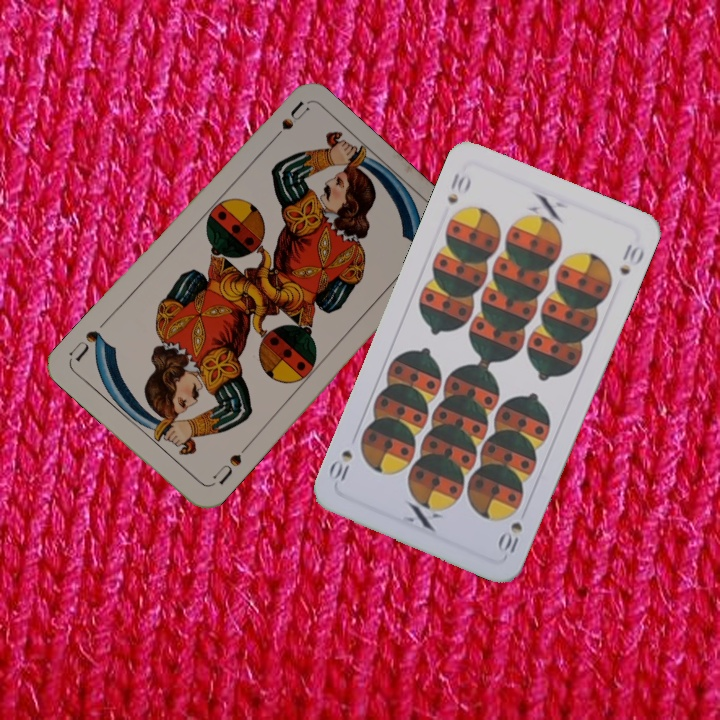S10: (443, 168, 474, 207), (496, 518, 525, 557)
SU: (263, 98, 311, 149), (208, 441, 251, 487)
